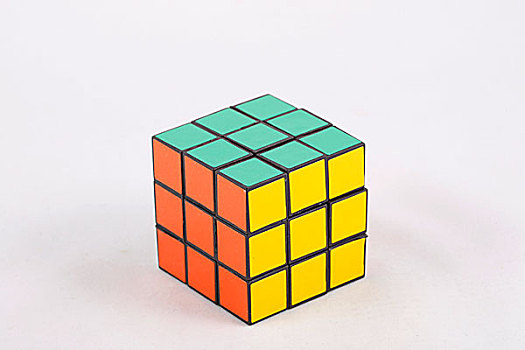cube: (148, 91, 370, 328)
